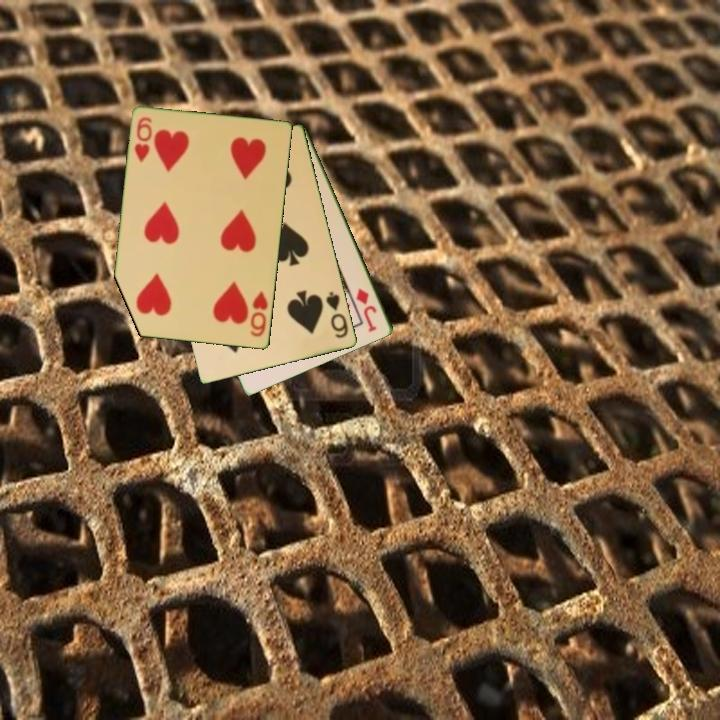6h: (247, 288, 271, 340), (131, 114, 155, 165)
6s: (323, 288, 351, 341)
Jd: (353, 285, 380, 335)
